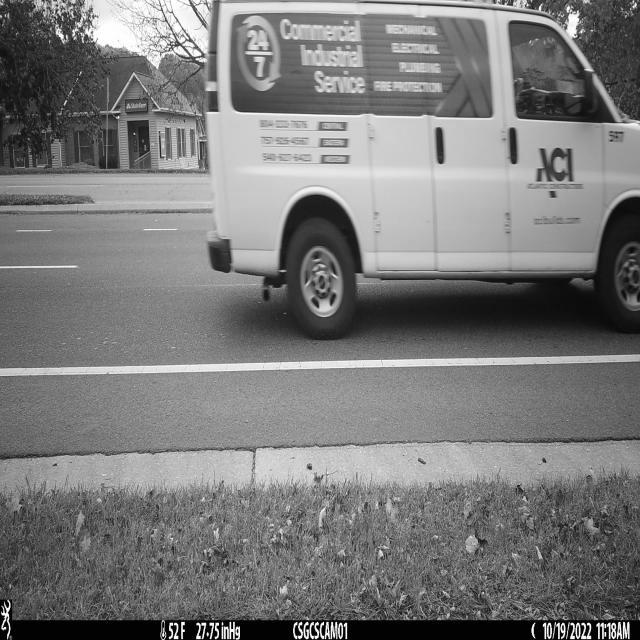Van: (204, 0, 640, 342)
